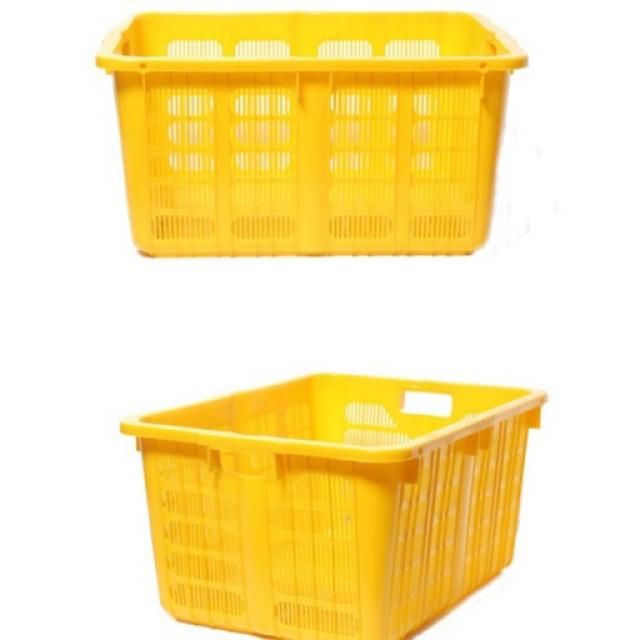basket: (121, 374, 549, 640), (96, 10, 530, 257)
